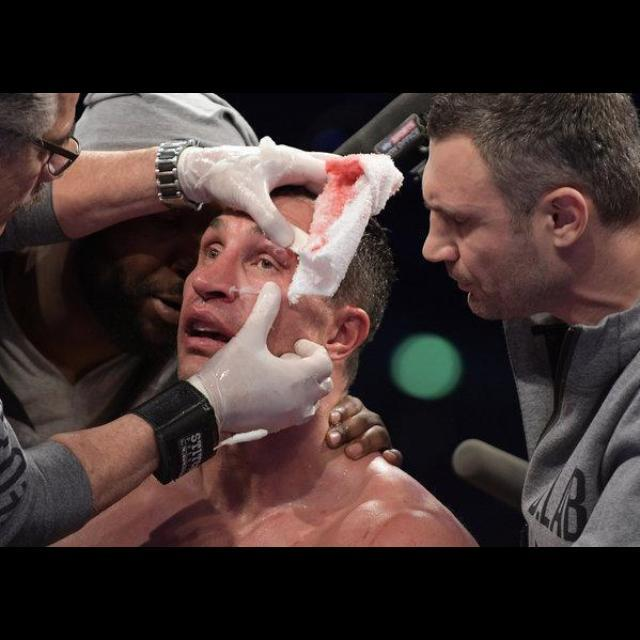blood: (308, 154, 403, 254)
